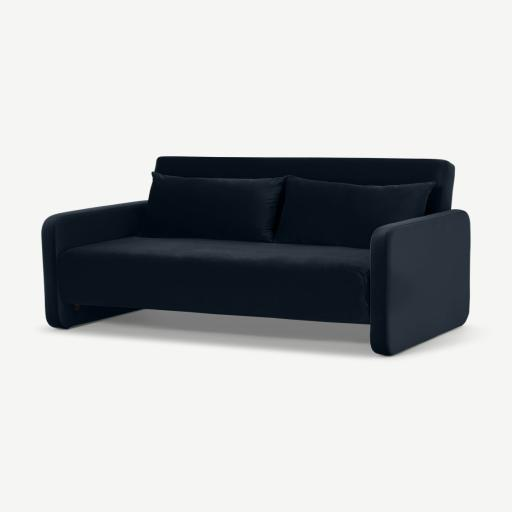back_cushion: (133, 168, 418, 245)
left_arm: (365, 206, 470, 367)
right_arm: (42, 196, 147, 339)
seat_cushion: (59, 236, 364, 333)
two-seater: (0, 0, 511, 512)
